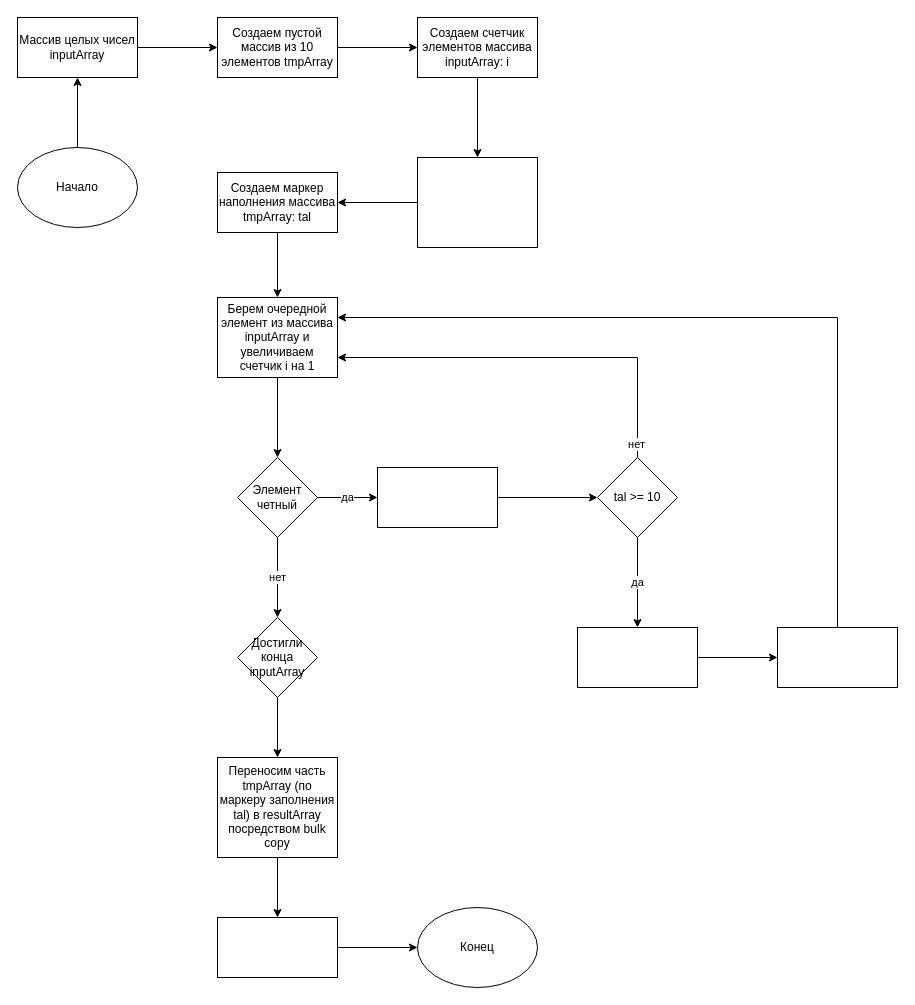
This 915x1005 diagram has some shape labels left out. The shapes that lost their labels are listed below. From the top down, each one's centre as x and y in pixels, then its label:
[477,202]: Объявляем переменную результата resultArray и инициализируем ее пустым значением
[437,497]: Копируем элемент в tmpArray[tal] и увеличиваем tal на 1
[637,657]: Переносим tmpArray в resultArray посредством bulk copy
[837,657]: Сбрасываем tal в 0
[277,947]: Возвращаем на выход результат resultArray
